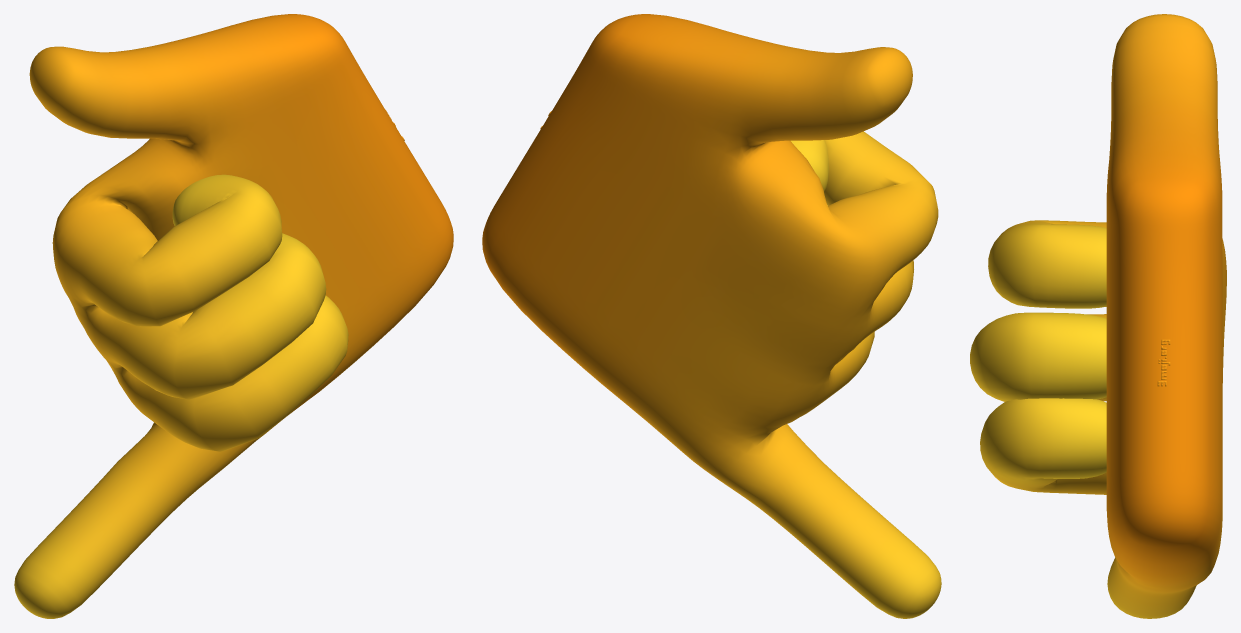
Rendered from call_me_hand.gltf.
3 views of the same model, side by side, from view 1: azimuth 30°, elevation 25°; view 2: azimuth 150°, elevation 25°; view 3: azimuth 270°, elevation 25° (orthographic). The views are drawn at different scales.
Visible parts, largest first — view 1: Cube.092; view 2: Cube.092; view 3: Cube.092.
Boxes of the visible parts, left/top/right/bottom form: Cube.092: left=14, top=14, right=453, bottom=618; Cube.092: left=482, top=14, right=941, bottom=618; Cube.092: left=970, top=14, right=1226, bottom=618.
Bounding box in the file's own units: 1.45 × 1.76 × 0.673.
Materials: 1 (1 with a texture image).
